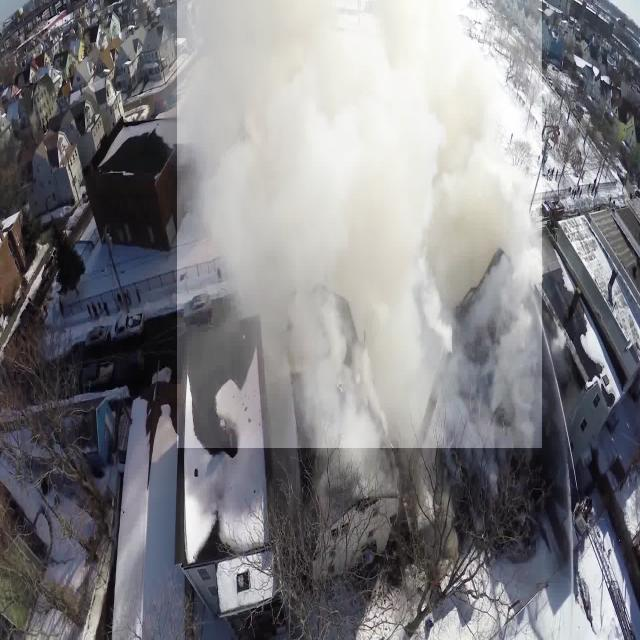Smoke: (177, 0, 542, 448)
